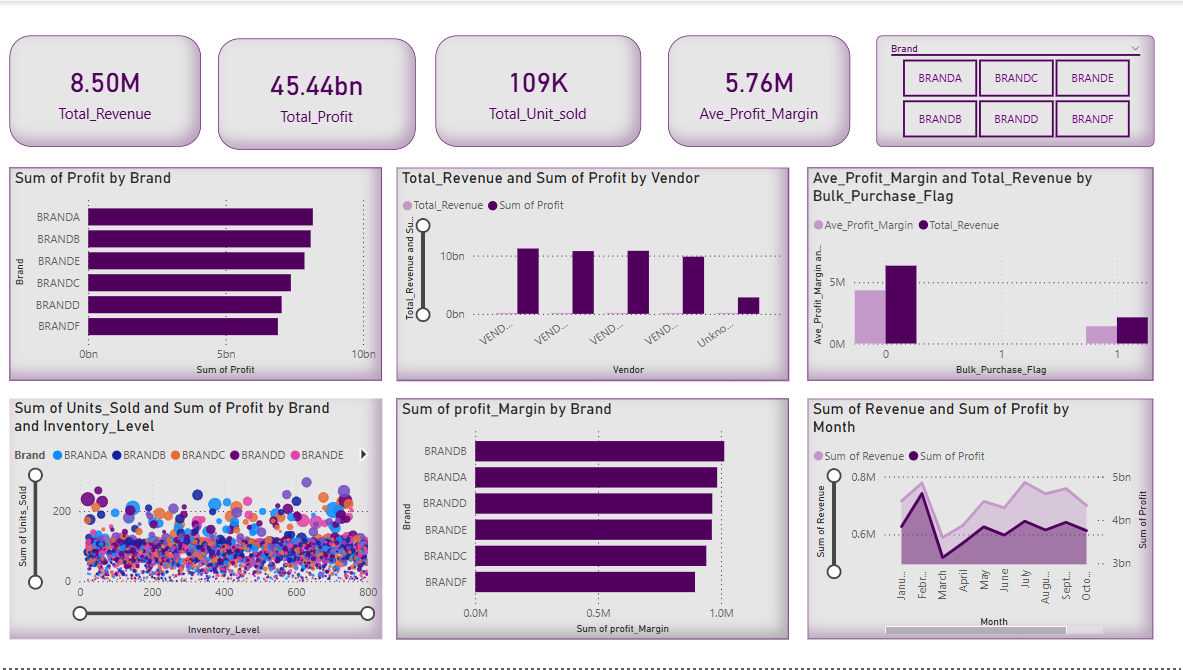

This screenshot's page, from the dashboard's own definition file:
{"tool":"powerbi","page":{"name":"Page 1","canvas":[1280,720],"ordinal":0},"visuals":[{"type":"card","fields":{"Values":["Cleaned_Data.Total_Revenue"]},"box":[11.7,36.7,206.7,120],"z":0},{"type":"card","fields":{"Values":["Cleaned_Data.Total_Profit"]},"box":[236.7,40,213.3,120],"z":1000},{"type":"card","fields":{"Values":["Cleaned_Data.Total_Unit_sold"]},"box":[471.7,36.7,221.7,120],"z":2000},{"type":"card","fields":{"Values":["Cleaned_Data.Ave_Profit_Margin"]},"box":[721.7,36.7,196.7,120],"z":3000},{"type":"clusteredColumnChart","fields":{"Category":["Cleaned_Data.Bulk_Purchase_Flag"],"Y":["Cleaned_Data.Ave_Profit_Margin","Cleaned_Data.Total_Revenue"]},"box":[873.3,180,373.3,230],"z":4000},{"type":"scatterChart","fields":{"X":["Cleaned_Data.Inventory_Level"],"Y":["Sum(Cleaned_Data.Units_Sold)"],"Size":["Sum(Cleaned_Data.Profit)"],"Series":["Cleaned_Data.Brand"]},"box":[11.7,428.3,401.7,260],"z":5000},{"type":"barChart","fields":{"Category":["Cleaned_Data.Brand"],"Y":["Sum(Cleaned_Data.profit_Margin)"]},"box":[428.3,428.3,423.3,260],"z":6000},{"type":"lineChart","fields":{"Category":["Cleaned_Data.Date.Variation.Date Hierarchy.Month"],"Y":["Sum(Cleaned_Data.Revenue)"],"Y2":["Sum(Cleaned_Data.Profit)"]},"box":[873.3,428.3,373.3,260],"z":7000},{"type":"clusteredColumnChart","fields":{"Category":["Cleaned_Data.Vendor"],"Y":["Cleaned_Data.Total_Revenue","Sum(Cleaned_Data.Profit)"]},"box":[428.3,180,423.3,230],"z":8000},{"type":"barChart","fields":{"Category":["Cleaned_Data.Brand"],"Y":["Sum(Cleaned_Data.Profit)"]},"box":[11.7,180,401.7,230],"z":9000},{"type":"slicer","fields":{"Values":["Cleaned_Data.Brand"]},"box":[946.7,36.7,300,120],"z":9001}]}

Visuals, with their boxes in screenshot pixels (x1, y1, x2, y2), scaled from the page's 1280x720 canvas onto the 1183x670 screenshot:
card - Cleaned_Data.Total_Revenue: x1=11 y1=34 x2=202 y2=146
card - Cleaned_Data.Total_Profit: x1=219 y1=37 x2=416 y2=149
card - Cleaned_Data.Total_Unit_sold: x1=436 y1=34 x2=641 y2=146
card - Cleaned_Data.Ave_Profit_Margin: x1=667 y1=34 x2=849 y2=146
clusteredColumnChart - Cleaned_Data.Bulk_Purchase_Flag x Cleaned_Data.Ave_Profit_Margin: x1=807 y1=168 x2=1152 y2=382
scatterChart - Cleaned_Data.Inventory_Level x Sum(Cleaned_Data.Units_Sold): x1=11 y1=399 x2=382 y2=641
barChart - Cleaned_Data.Brand x Sum(Cleaned_Data.profit_Margin): x1=396 y1=399 x2=787 y2=641
lineChart - Cleaned_Data.Date.Variation.Date Hierarchy.Month x Sum(Cleaned_Data.Revenue): x1=807 y1=399 x2=1152 y2=641
clusteredColumnChart - Cleaned_Data.Vendor x Cleaned_Data.Total_Revenue: x1=396 y1=168 x2=787 y2=382
barChart - Cleaned_Data.Brand x Sum(Cleaned_Data.Profit): x1=11 y1=168 x2=382 y2=382
slicer - Cleaned_Data.Brand: x1=875 y1=34 x2=1152 y2=146
